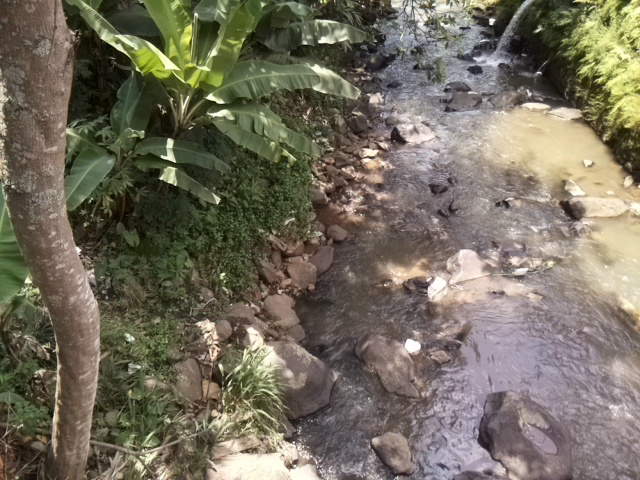Sampah_Plastik: (424, 277, 451, 303)
Sampah_Styrofoam: (403, 336, 423, 356)
